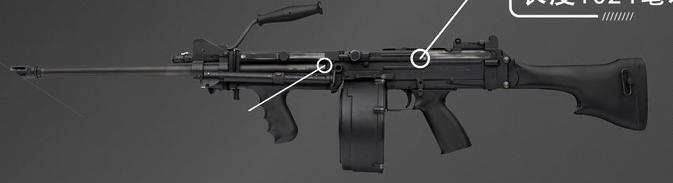gun: (1, 1, 673, 183)
